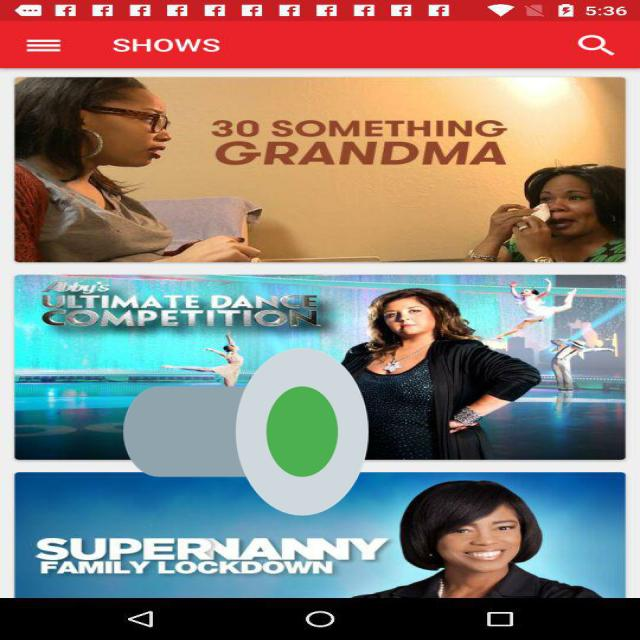social proof: (123, 276, 369, 586)
